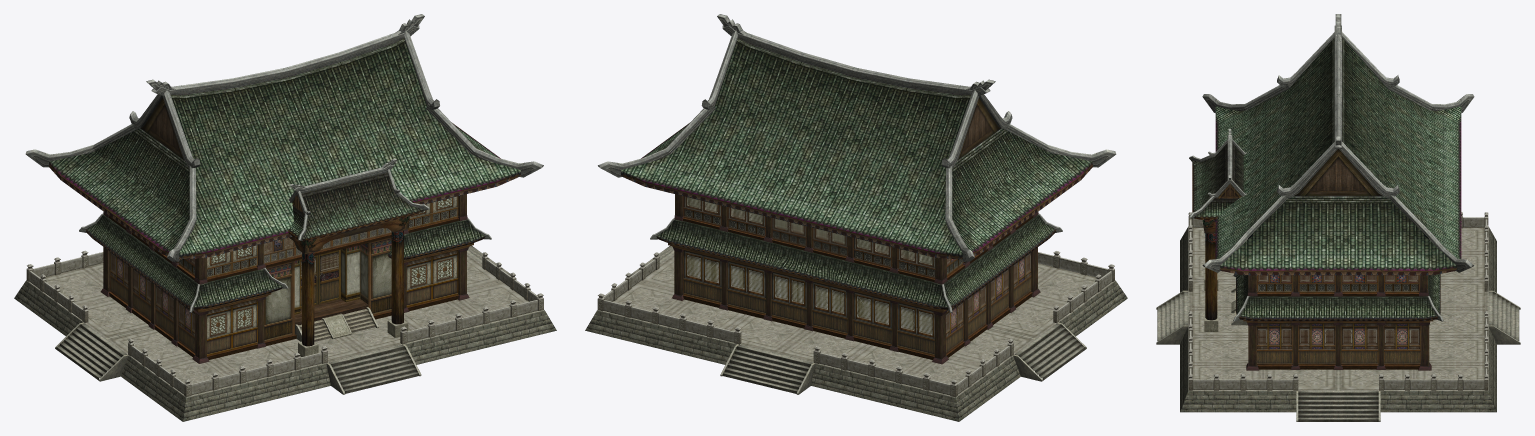
Rendered from c1-010-bank.fbx.
3 renders of one model, left to right at view 1: azimuth 30°, elevation 25°; view 2: azimuth 150°, elevation 25°; view 3: azimuth 270°, elevation 25°, orthographic. The views are drawn at different scales.
Parts seen in each view (by area): view 1: Object01; view 2: Object01; view 3: Object01.
Part boxes in pixels (x1,y1,x2,y2): Object01: (14, 14, 556, 421); Object01: (585, 14, 1127, 421); Object01: (1156, 14, 1520, 421).
Size of the model in its own units: 24.99 by 15.27 by 20.19.
